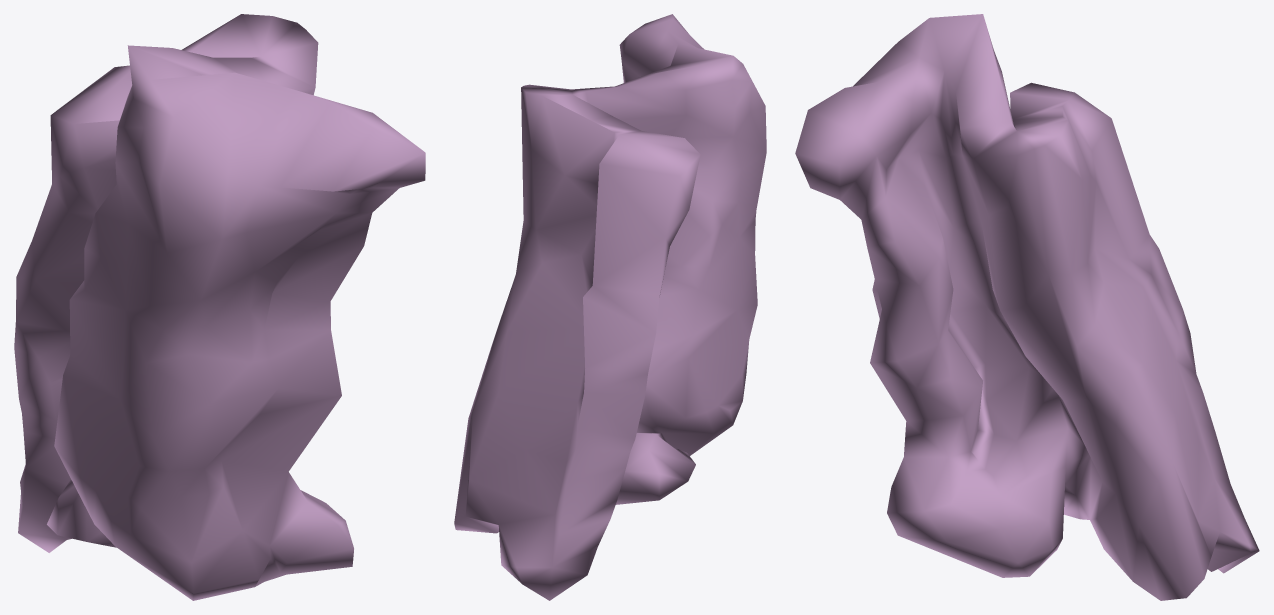
The picture shows the model from 3 angles, left to right: view 1: azimuth 30°, elevation 25°; view 2: azimuth 150°, elevation 25°; view 3: azimuth 270°, elevation 25°; orthographic projection. The views are drawn at different scales.
Parts seen in each view (by area): view 1: 左侧扣带回与扣带沟中前部; view 2: 左侧扣带回与扣带沟中前部; view 3: 左侧扣带回与扣带沟中前部.
Boxes of the visible parts, box(x1,y1,x2,y2) form: 左侧扣带回与扣带沟中前部: box(14, 14, 425, 600); 左侧扣带回与扣带沟中前部: box(454, 14, 766, 600); 左侧扣带回与扣带沟中前部: box(795, 14, 1259, 600).
Size of the model in its own units: 0.0214 by 0.054 by 0.0426.
